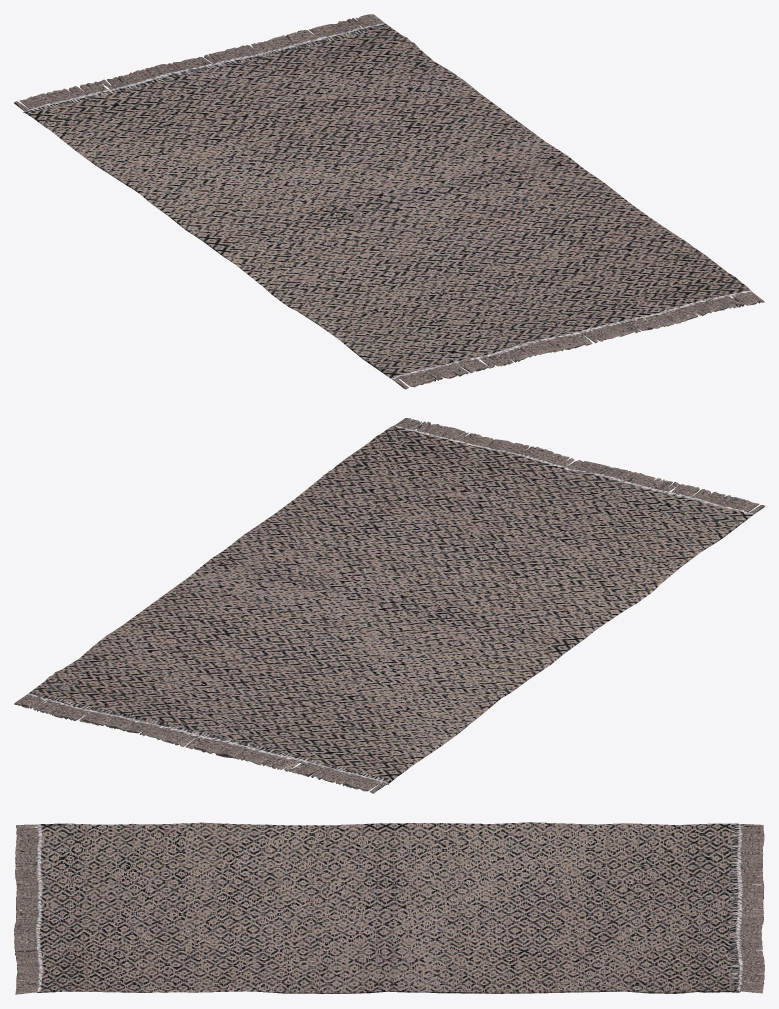
3 views of the same model, one above another, from view 1: azimuth 30°, elevation 25°; view 2: azimuth 150°, elevation 25°; view 3: azimuth 270°, elevation 25° (orthographic). The views are drawn at different scales.
Visible parts, largest first — view 1: ProcessedMeshNode; view 2: ProcessedMeshNode; view 3: ProcessedMeshNode.
Part boxes in pixels (x1,y1,x2,y2): ProcessedMeshNode: (14,14,764,389); ProcessedMeshNode: (14,418,764,793); ProcessedMeshNode: (14,822,764,994).
Size of the model in its own units: 0.8082 by 0.0111 by 1.51.
1 material, 1 textured.
